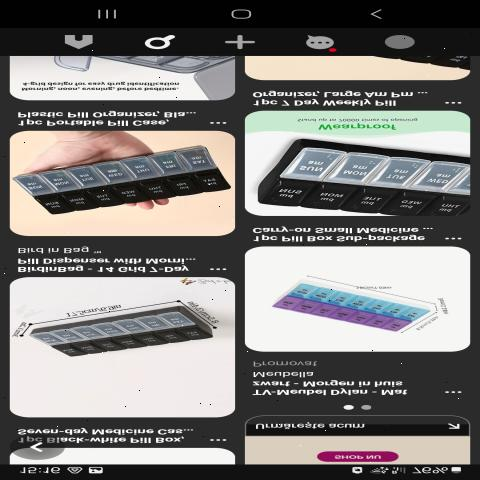PillBox: (262, 129, 480, 220), (13, 139, 230, 221), (258, 257, 450, 349), (13, 295, 221, 373)
